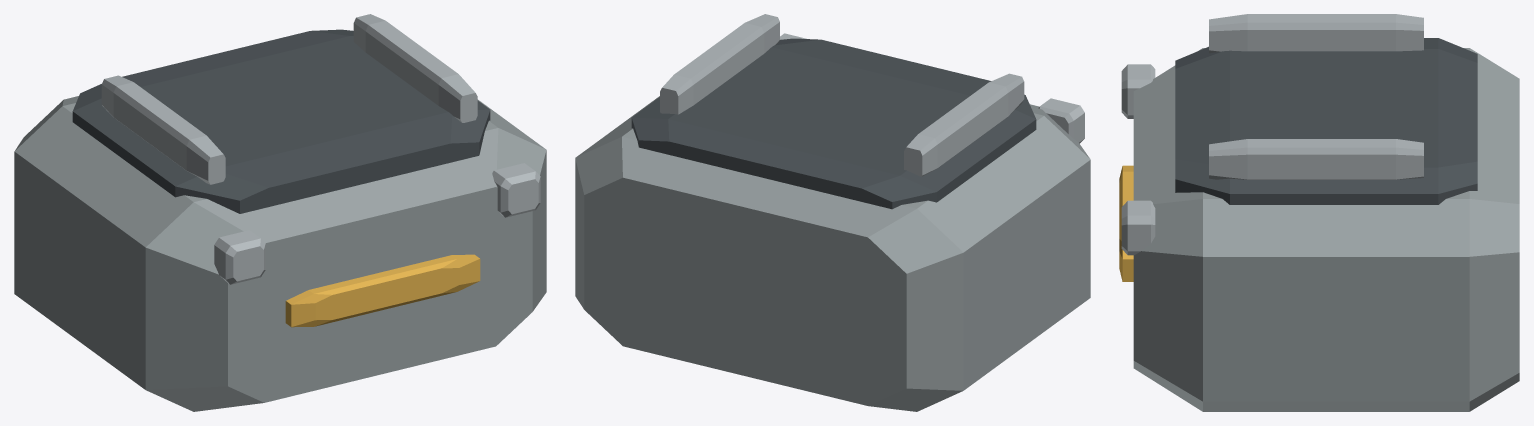
The model's file is frontier-armor.gltf.
3 renders of one model, left to right at view 1: azimuth 30°, elevation 25°; view 2: azimuth 150°, elevation 25°; view 3: azimuth 270°, elevation 25°, orthographic. The views are drawn at different scales.
Visible parts, largest first — view 1: ForgedShell, InsetReinforcement, WarningStripe, CoolingRibL, CoolingRibR, FastenerL, FastenerR; view 2: ForgedShell, InsetReinforcement, CoolingRibL, CoolingRibR, FastenerL; view 3: ForgedShell, InsetReinforcement, CoolingRibR, CoolingRibL, FastenerR, FastenerL, WarningStripe.
Part boxes in pixels (x1,y1,x2,y2): ForgedShell: (14, 96, 546, 411); InsetReinforcement: (72, 29, 490, 213); WarningStripe: (285, 254, 480, 327); CoolingRibL: (101, 75, 225, 184); CoolingRibR: (353, 14, 477, 122); FastenerL: (214, 230, 265, 284); FastenerR: (492, 163, 540, 217); ForgedShell: (575, 96, 1090, 411); InsetReinforcement: (631, 38, 1036, 209); CoolingRibL: (904, 73, 1024, 176); CoolingRibR: (660, 14, 779, 114); FastenerL: (1038, 98, 1084, 143); ForgedShell: (1133, 48, 1519, 411); InsetReinforcement: (1175, 38, 1477, 204); CoolingRibR: (1209, 139, 1423, 179); CoolingRibL: (1209, 14, 1423, 53); FastenerR: (1121, 200, 1155, 255); FastenerL: (1121, 64, 1155, 118); WarningStripe: (1119, 165, 1133, 281).
Bounding box in the file's own units: 1.4 × 0.84 × 1.19.
